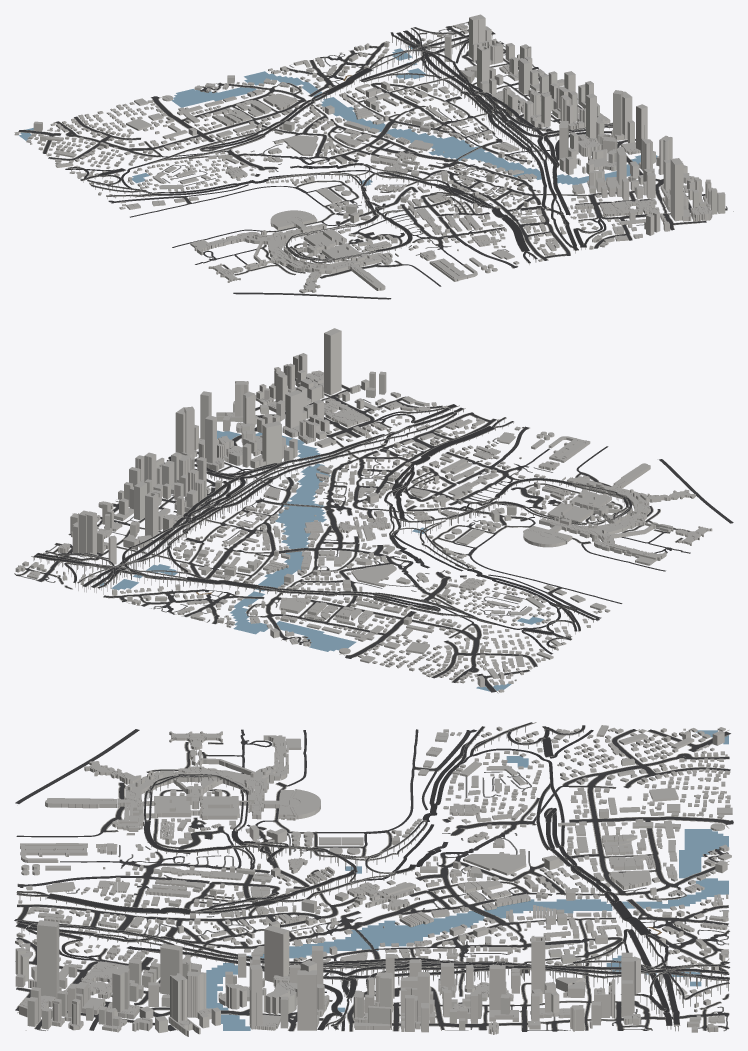
The model's file is chunk_7_5.glb.
3 renders of one model, top to bottom at view 1: azimuth 30°, elevation 25°; view 2: azimuth 150°, elevation 25°; view 3: azimuth 270°, elevation 25°, orthographic. The views are drawn at different scales.
Visible parts, largest first — view 1: Buildings_7_5, Roads_7_5, Filler_7_5, RoadSides_7_5, Water_7_5; view 2: Buildings_7_5, Roads_7_5, Filler_7_5, RoadSides_7_5, Water_7_5; view 3: Buildings_7_5, Roads_7_5, Filler_7_5, RoadSides_7_5, Water_7_5.
Boxes of the visible parts, bbox=[...] form: Buildings_7_5: bbox=[126, 14, 712, 293]; Roads_7_5: bbox=[18, 22, 727, 299]; Filler_7_5: bbox=[14, 29, 725, 264]; RoadSides_7_5: bbox=[14, 21, 733, 278]; Water_7_5: bbox=[19, 46, 657, 185]; Buildings_7_5: bbox=[15, 328, 712, 663]; Roads_7_5: bbox=[14, 378, 733, 692]; Filler_7_5: bbox=[36, 353, 618, 692]; RoadSides_7_5: bbox=[15, 378, 690, 693]; Water_7_5: bbox=[100, 430, 543, 691]; Buildings_7_5: bbox=[19, 731, 732, 1036]; Roads_7_5: bbox=[14, 722, 733, 1031]; Filler_7_5: bbox=[15, 725, 730, 1032]; RoadSides_7_5: bbox=[16, 722, 729, 1031]; Water_7_5: bbox=[206, 730, 728, 1030].
Size of the model in its own units: 2108 by 242 by 2071.
